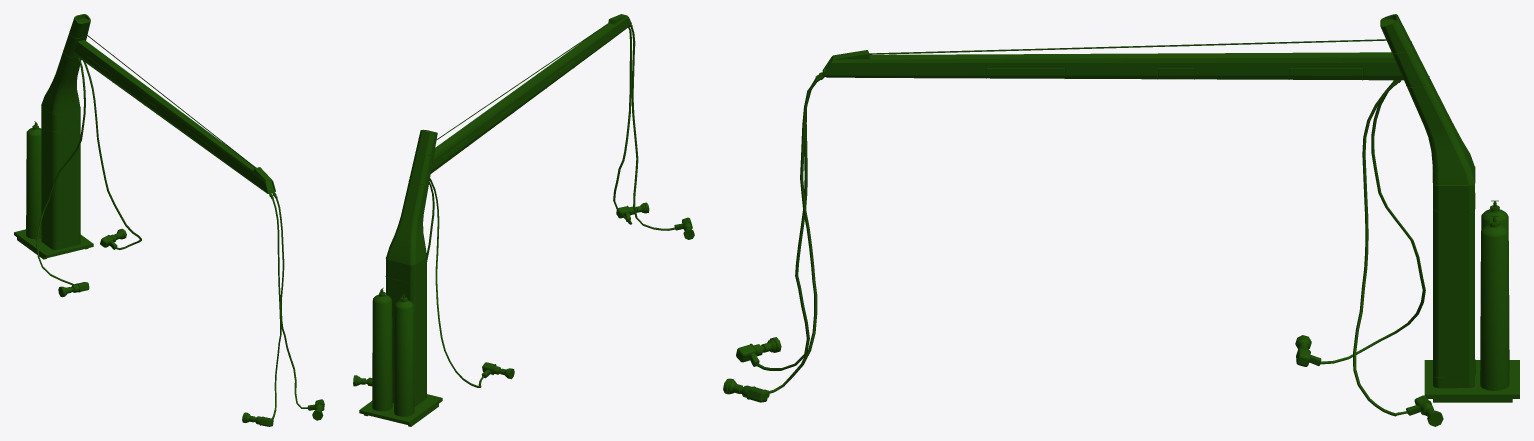
The model's file is PitStop Equip02.fbx.
3 views of the same model, side by side, from view 1: azimuth 30°, elevation 25°; view 2: azimuth 150°, elevation 25°; view 3: azimuth 270°, elevation 25° (orthographic). The views are drawn at different scales.
Parts seen in each view (by area): view 1: PitStop Equip02_NKit, PitStop Equip02_NKit_Wires, PSE2_Cylinder1, PitStop Equip02_NKit_Pitguns, PitStop Equip02_NKit_Detail; view 2: PitStop Equip02_NKit, PSE2_Cylinder2, PSE2_Cylinder1, PitStop Equip02_NKit_Wires, PitStop Equip02_NKit_Pitguns; view 3: PitStop Equip02_NKit, PitStop Equip02_NKit_Wires, PSE2_Cylinder2, PitStop Equip02_NKit_Pitguns.
Boxes of the visible parts, left/top/right/bottom form: PitStop Equip02_NKit: left=14, top=14, right=277, bottom=259; PitStop Equip02_NKit_Wires: left=36, top=59, right=307, bottom=418; PSE2_Cylinder1: left=26, top=121, right=41, bottom=239; PitStop Equip02_NKit_Pitguns: left=58, top=228, right=324, bottom=426; PitStop Equip02_NKit_Detail: left=41, top=32, right=214, bottom=243; PitStop Equip02_NKit: left=359, top=14, right=632, bottom=426; PSE2_Cylinder2: left=372, top=287, right=392, bottom=411; PSE2_Cylinder1: left=394, top=293, right=414, bottom=416; PitStop Equip02_NKit_Wires: left=426, top=27, right=675, bottom=387; PitStop Equip02_NKit_Pitguns: left=353, top=202, right=694, bottom=386; PitStop Equip02_NKit: left=815, top=14, right=1519, bottom=402; PitStop Equip02_NKit_Wires: left=756, top=78, right=1425, bottom=416; PSE2_Cylinder2: left=1480, top=215, right=1509, bottom=390; PitStop Equip02_NKit_Pitguns: left=723, top=335, right=1443, bottom=426.
Bounding box in the file's own units: 0.5784 × 1.27 × 2.48.
